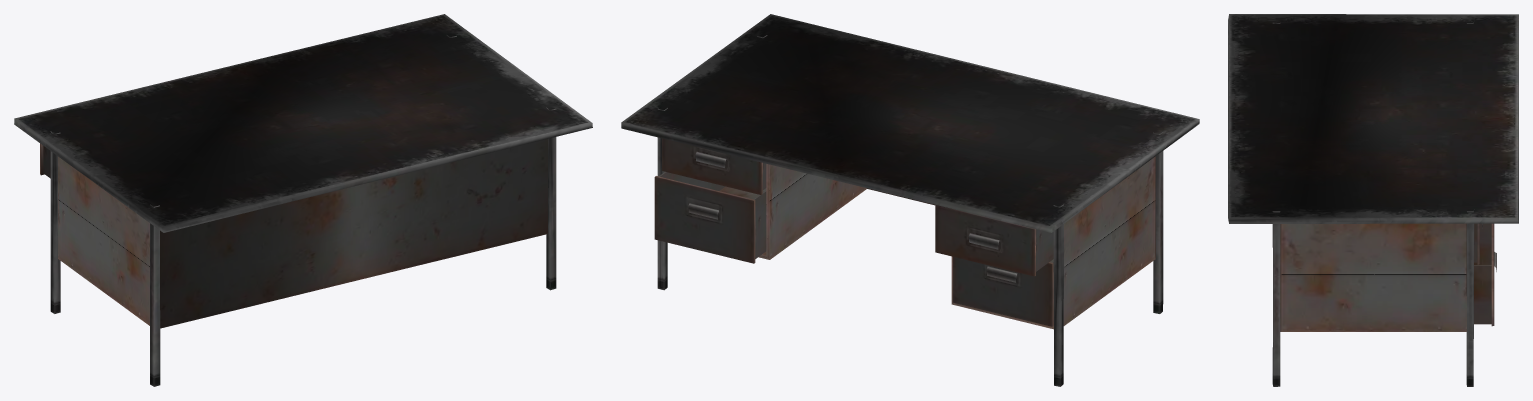
The model's file is desk_a.glb.
3 views of the same model, side by side, from view 1: azimuth 30°, elevation 25°; view 2: azimuth 150°, elevation 25°; view 3: azimuth 270°, elevation 25° (orthographic). The views are drawn at different scales.
Parts seen in each view (by area): view 1: desk_a; view 2: desk_a; view 3: desk_a.
Part boxes in pixels (<box>): desk_a: <box>14,14,592,386</box>; desk_a: <box>621,14,1199,386</box>; desk_a: <box>1228,14,1518,386</box>.
Size of the model in its own units: 2.02 by 0.81 by 1.22.
1 material, 1 textured.
